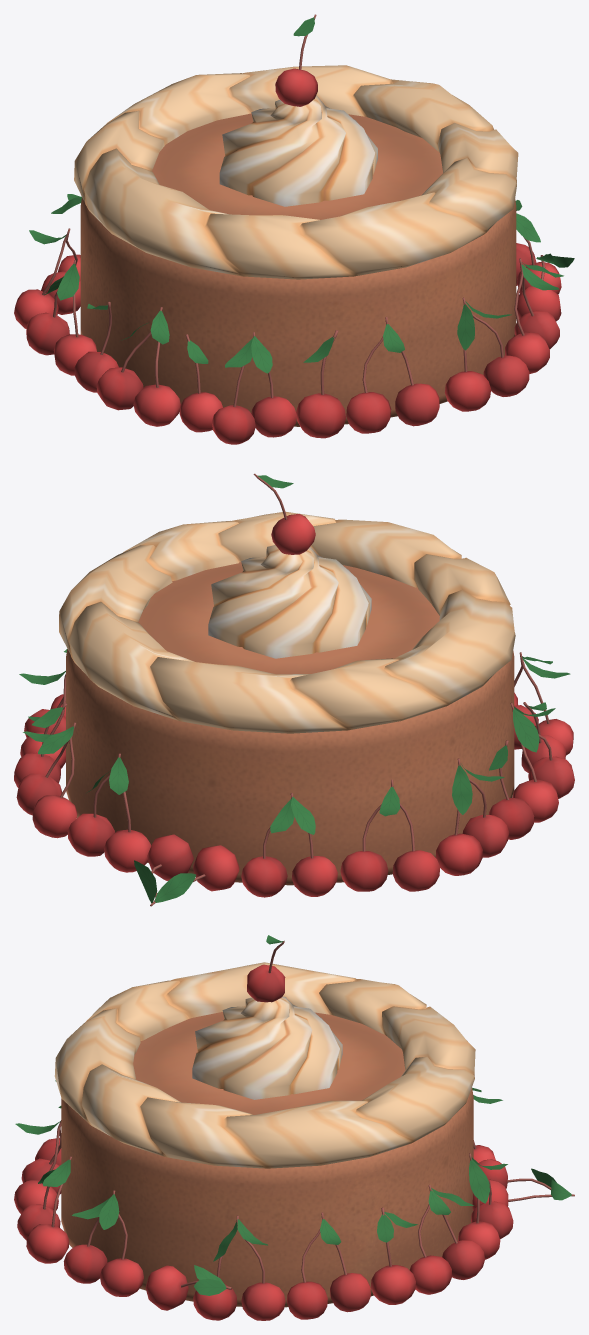
Rendered from cake_cherry.fbx.
3 views of the same model, one above another, from view 1: azimuth 30°, elevation 25°; view 2: azimuth 150°, elevation 25°; view 3: azimuth 270°, elevation 25° (orthographic). The views are drawn at different scales.
Visible parts, largest first — view 1: cake_&_cherry; view 2: cake_&_cherry; view 3: cake_&_cherry.
Boxes of the visible parts, bbox=[...] form: cake_&_cherry: bbox=[14, 14, 574, 444]; cake_&_cherry: bbox=[14, 473, 574, 906]; cake_&_cherry: bbox=[14, 935, 574, 1320].
Bounding box in the file's own units: 39.15 × 24.75 × 43.12.
